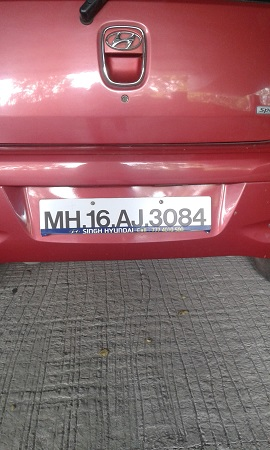licenseplate: (37, 194, 214, 236)
